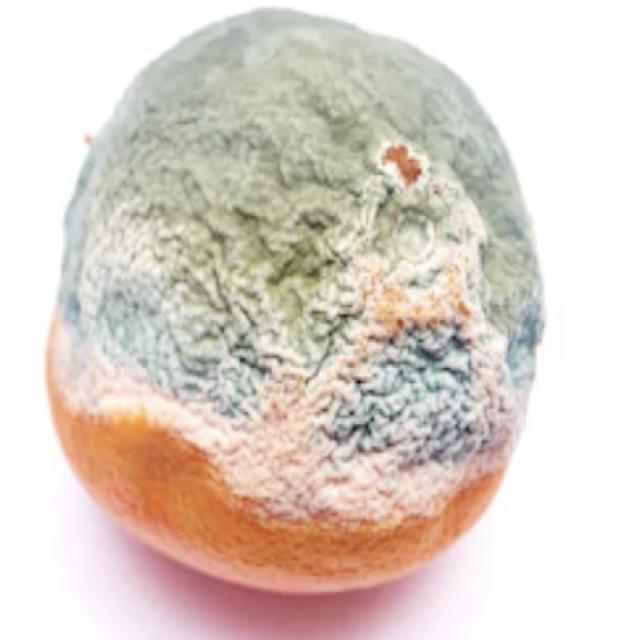sangat-busuk: (47, 9, 543, 592)
